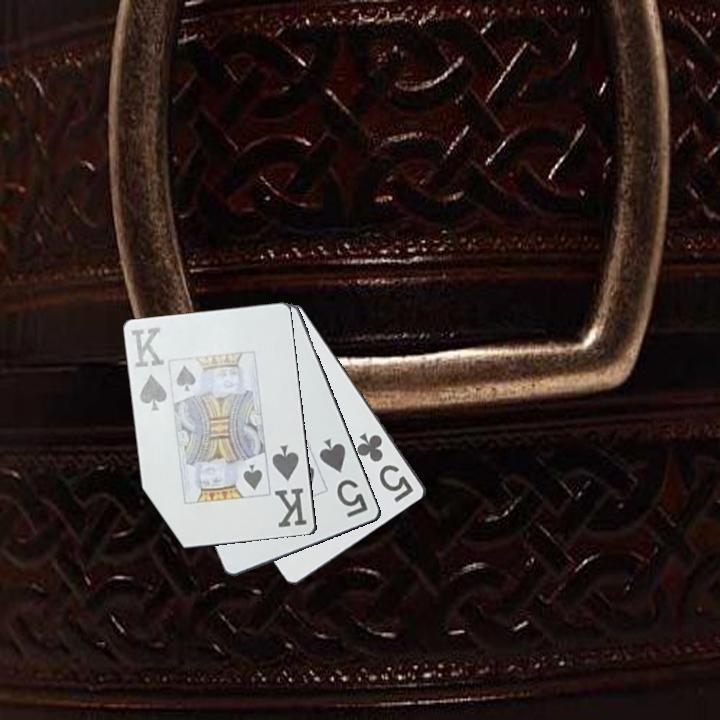5c: (353, 429, 417, 506)
5s: (316, 435, 371, 521)
Ks: (128, 324, 170, 414), (269, 441, 310, 531)
